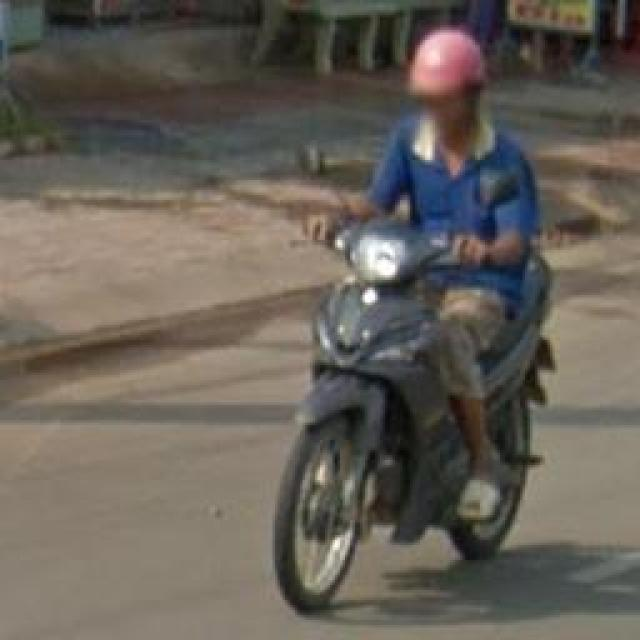motorbike: (266, 20, 556, 622)
